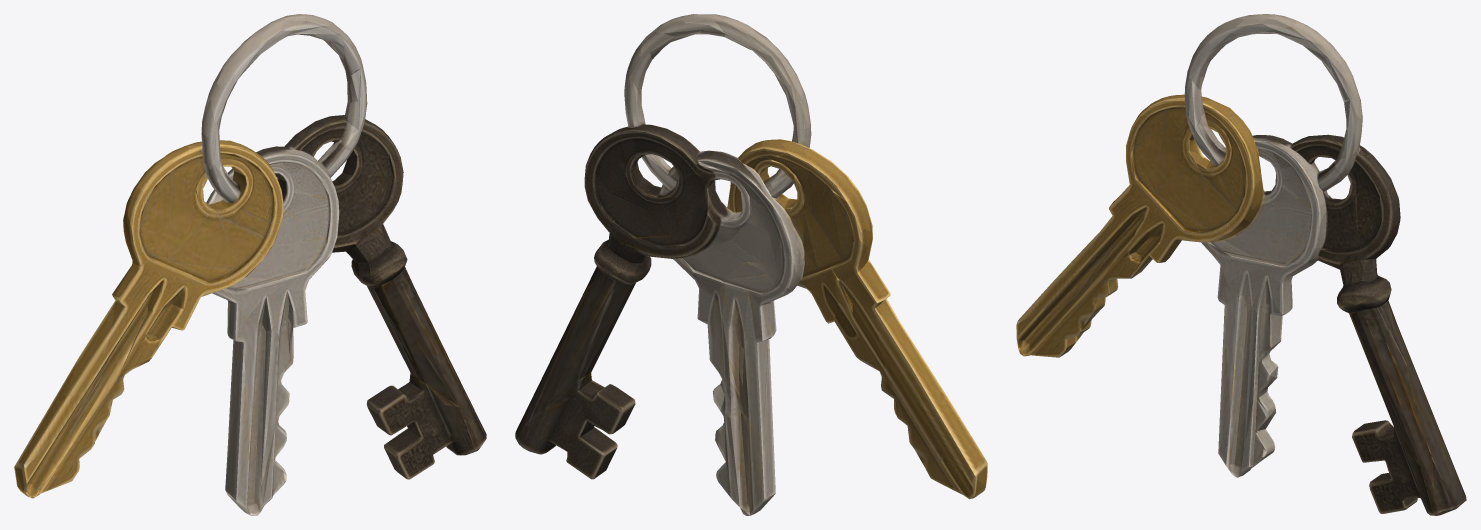
File: keyring.glb
3 renders of one model, left to right at view 1: azimuth 30°, elevation 25°; view 2: azimuth 150°, elevation 25°; view 3: azimuth 330°, elevation 25°, orthographic. The views are drawn at different scales.
Visible parts, largest first — view 1: output_unwrapped; view 2: output_unwrapped; view 3: output_unwrapped.
Boxes of the visible parts, bbox=[...] form: output_unwrapped: bbox=[14, 14, 486, 515]; output_unwrapped: bbox=[515, 14, 987, 515]; output_unwrapped: bbox=[1016, 14, 1466, 515].
Size of the model in its own units: 1.89 by 1.9 by 0.1937.
1 material, 1 textured.
